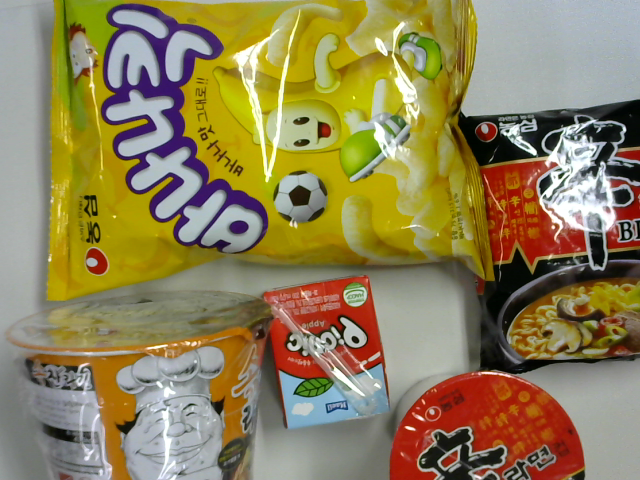Banana_Kick: (41, 1, 503, 288)
Hejangchan: (7, 284, 267, 480)
Picnic_Apple: (263, 278, 405, 434)
Sinramen_Black: (457, 102, 640, 366)
Sinramen_small: (389, 370, 583, 480)
